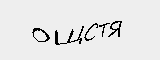И: (63, 21, 86, 36)
С: (23, 21, 39, 37)
Т: (102, 22, 117, 37)
У: (115, 20, 133, 38)
Э: (39, 21, 58, 36)
Ү: (87, 20, 103, 36)
